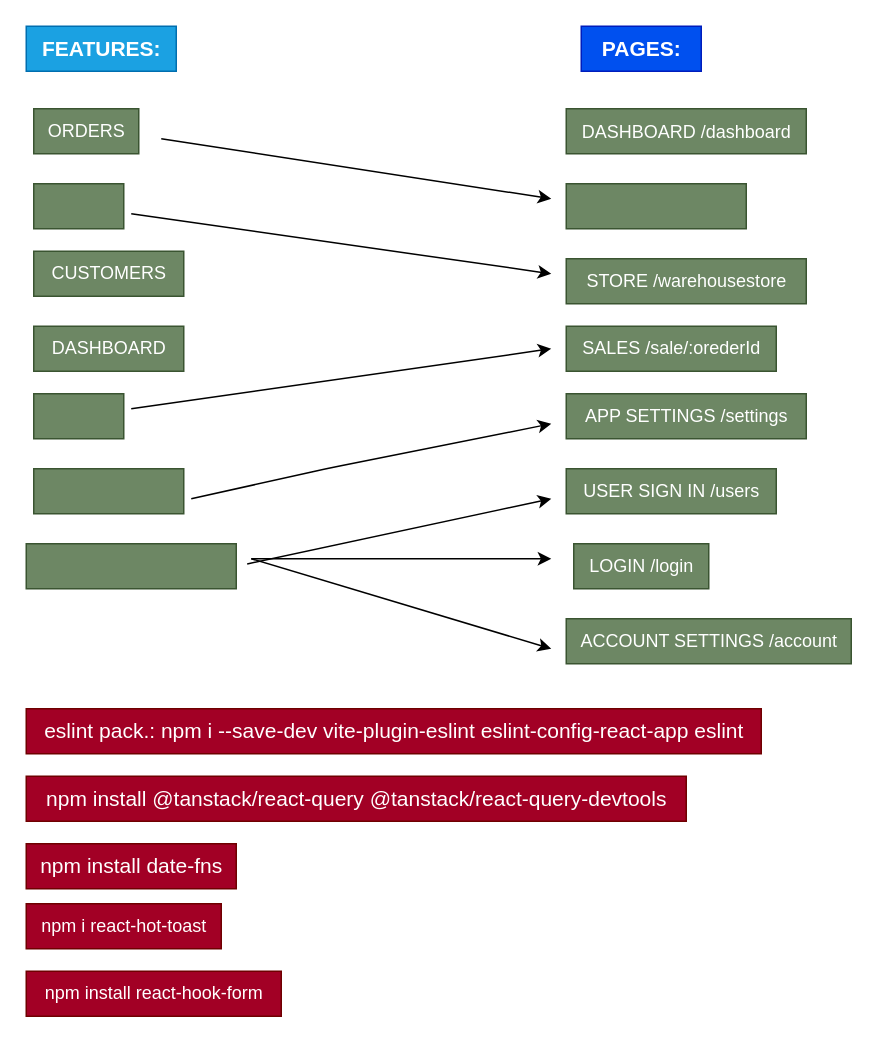
Image size: 878x1043. Some labels were removed from this diagram. Here are the shapes that lost their labels. From the top down, the centre of each, then its label:
pixel 78 205: STORE
pixel 655 205: ORDERS /orders
pixel 78 415: SALES
pixel 108 490: APPSETTINGS
pixel 130 565: AUTHENTIFICATION
